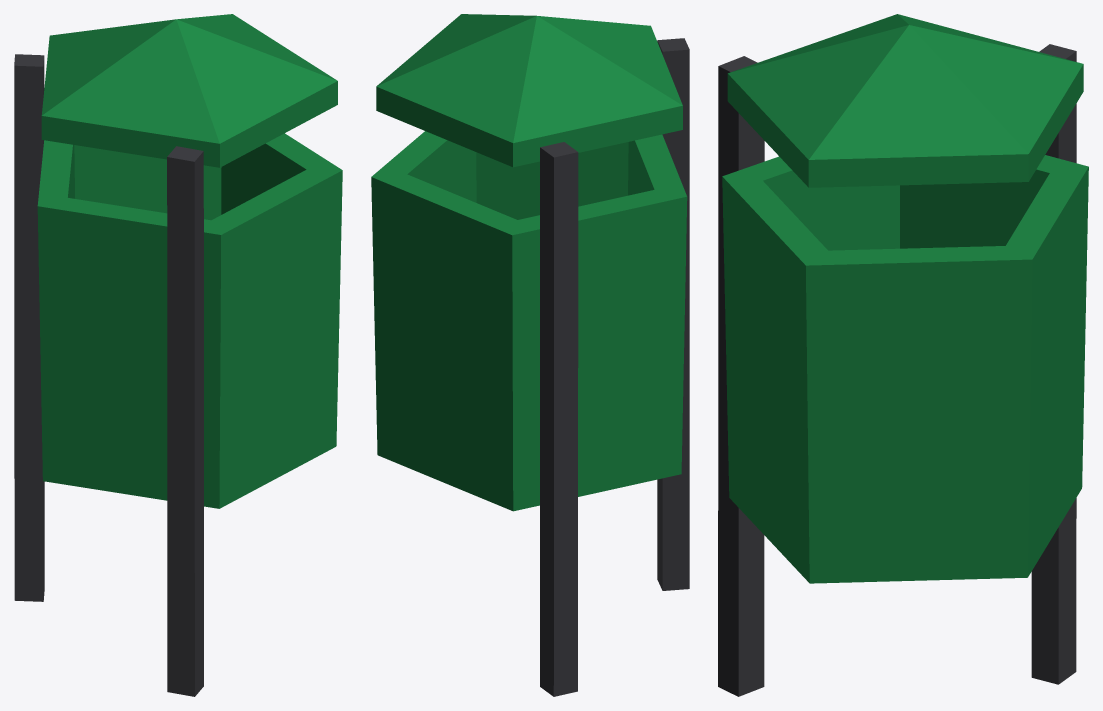
The model's file is garbage_urn1.fbx.
3 renders of one model, left to right at view 1: azimuth 30°, elevation 25°; view 2: azimuth 150°, elevation 25°; view 3: azimuth 270°, elevation 25°, orthographic. The views are drawn at different scales.
Parts seen in each view (by area): view 1: garbage_urn1; view 2: garbage_urn1; view 3: garbage_urn1.
Boxes of the visible parts, x1,y1,x2,y2 form: garbage_urn1: [14, 14, 342, 696]; garbage_urn1: [371, 14, 689, 696]; garbage_urn1: [718, 14, 1088, 696].
Size of the model in its own units: 86.51 by 187 by 90.15.
